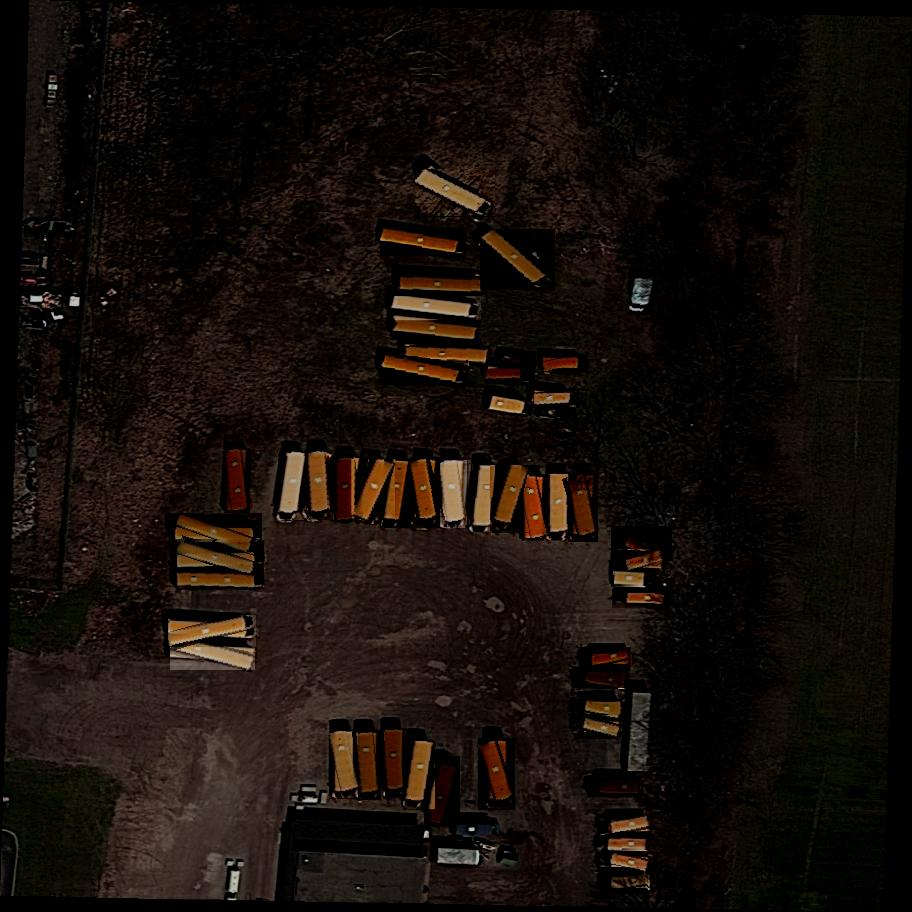large-vehicle: (479, 225, 555, 294), (415, 167, 496, 221), (173, 513, 262, 558), (177, 540, 266, 578), (170, 636, 256, 672), (168, 615, 259, 648), (479, 738, 519, 810), (380, 354, 468, 386), (490, 464, 530, 534), (352, 460, 395, 525), (380, 227, 468, 258), (424, 756, 461, 827), (389, 296, 481, 322), (403, 739, 436, 811), (410, 458, 442, 530), (610, 526, 674, 562), (329, 731, 361, 799), (568, 475, 599, 544), (390, 317, 479, 341), (382, 459, 412, 529), (519, 475, 551, 540), (469, 464, 499, 533), (278, 451, 307, 522), (440, 461, 469, 528), (355, 730, 382, 800), (396, 277, 487, 296), (225, 448, 251, 514), (308, 451, 329, 520), (612, 550, 666, 576), (385, 729, 405, 798), (404, 346, 490, 362), (579, 648, 633, 673), (597, 814, 650, 839), (175, 573, 263, 588), (334, 455, 353, 522), (599, 852, 653, 875), (612, 589, 671, 610), (574, 715, 622, 739), (550, 475, 568, 537), (600, 874, 649, 896), (572, 699, 623, 720), (573, 670, 629, 689), (630, 276, 656, 316), (587, 780, 640, 797), (542, 355, 589, 374), (497, 350, 537, 370), (615, 572, 661, 585), (534, 393, 579, 406), (595, 839, 650, 849), (486, 370, 533, 381)
ship: (24, 222, 76, 237)
